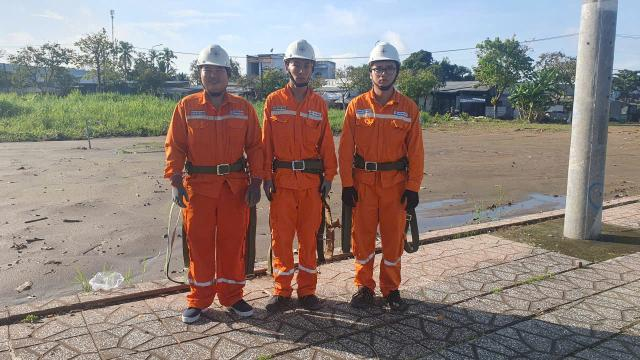gloves: (163, 176, 197, 212), (241, 176, 263, 208), (316, 175, 341, 200), (401, 183, 421, 213), (341, 182, 360, 212), (263, 174, 275, 203)
harness: (263, 150, 336, 182), (181, 155, 262, 183), (339, 154, 414, 180)
helmet: (360, 34, 408, 72), (277, 32, 324, 67), (193, 41, 240, 69)
shoes: (176, 300, 214, 331), (221, 296, 260, 319), (348, 283, 379, 309), (381, 286, 412, 311), (302, 289, 332, 309), (263, 291, 296, 308)
